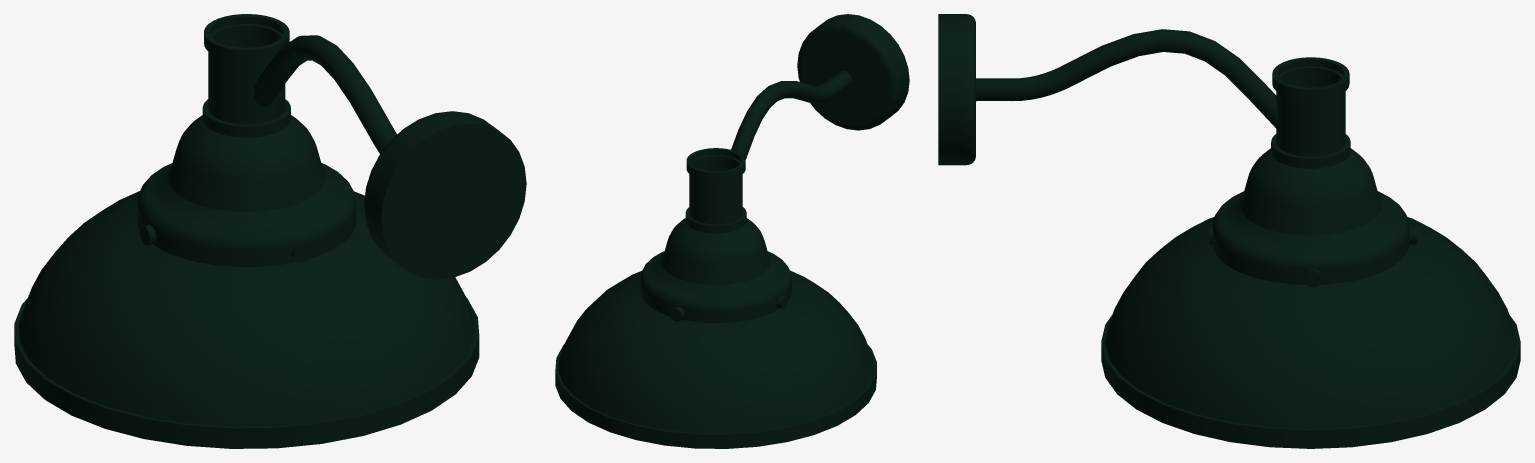
3 views of the same model, side by side, from view 1: azimuth 30°, elevation 25°; view 2: azimuth 150°, elevation 25°; view 3: azimuth 270°, elevation 25° (orthographic). The views are drawn at different scales.
Parts seen in each view (by area): view 1: Obj3d66-8784164-1259-72, Obj3d66-8784164-1261-72, Obj3d66-8784164-1260-102; view 2: Obj3d66-8784164-1259-72, Obj3d66-8784164-1261-72, Obj3d66-8784164-1260-102; view 3: Obj3d66-8784164-1259-72, Obj3d66-8784164-1260-102, Obj3d66-8784164-1261-72.
Boxes of the visible parts, bbox=[...] form: Obj3d66-8784164-1259-72: bbox=[14, 14, 479, 448]; Obj3d66-8784164-1261-72: bbox=[364, 111, 526, 279]; Obj3d66-8784164-1260-102: bbox=[254, 35, 396, 153]; Obj3d66-8784164-1259-72: bbox=[555, 148, 876, 448]; Obj3d66-8784164-1261-72: bbox=[797, 14, 909, 130]; Obj3d66-8784164-1260-102: bbox=[731, 71, 852, 159]; Obj3d66-8784164-1259-72: bbox=[1101, 57, 1520, 448]; Obj3d66-8784164-1260-102: bbox=[976, 29, 1278, 128]; Obj3d66-8784164-1261-72: bbox=[938, 14, 975, 165].
Bounding box in the file's own units: 30.43 × 30.73 × 42.25.
